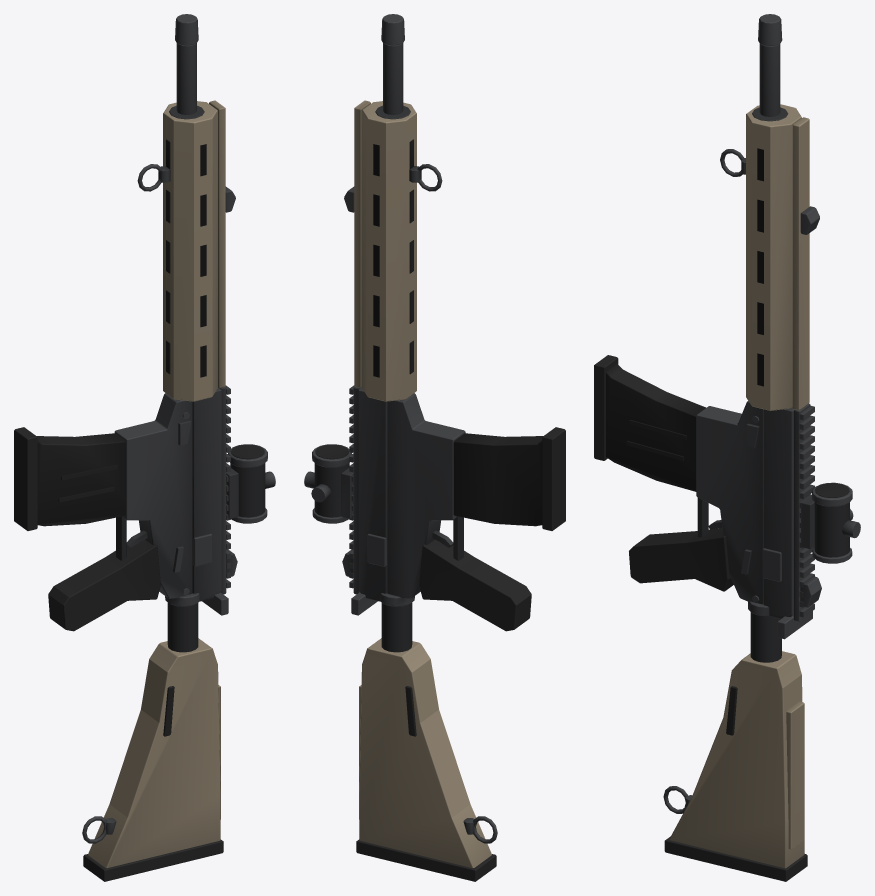
Rendered from armory_rifle_tan.gltf.
3 views of the same model, side by side, from view 1: azimuth 30°, elevation 25°; view 2: azimuth 150°, elevation 25°; view 3: azimuth 330°, elevation 25° (orthographic).
Visible parts, largest first — view 1: ArmoryRifleTan_Furniture, ArmoryRifleTan_Metal, ArmoryRifleTan_Polymer, ArmoryRifleTan_Polymer_Detail, ArmoryRifleTan_Metal_Detail; view 2: ArmoryRifleTan_Furniture, ArmoryRifleTan_Metal, ArmoryRifleTan_Polymer, ArmoryRifleTan_Polymer_Detail, ArmoryRifleTan_Metal_Detail; view 3: ArmoryRifleTan_Furniture, ArmoryRifleTan_Metal, ArmoryRifleTan_Polymer, ArmoryRifleTan_Metal_Detail, ArmoryRifleTan_Polymer_Detail.
Boxes of the visible parts, <box> form: ArmoryRifleTan_Furniture: <box>88,100,225,868</box>; ArmoryRifleTan_Metal: <box>114,14,267,652</box>; ArmoryRifleTan_Polymer: <box>14,427,223,881</box>; ArmoryRifleTan_Polymer_Detail: <box>58,139,264,502</box>; ArmoryRifleTan_Metal_Detail: <box>82,164,275,843</box>; ArmoryRifleTan_Furniture: <box>354,100,491,868</box>; ArmoryRifleTan_Metal: <box>312,14,465,652</box>; ArmoryRifleTan_Polymer: <box>356,427,565,881</box>; ArmoryRifleTan_Polymer_Detail: <box>315,139,413,459</box>; ArmoryRifleTan_Metal_Detail: <box>304,164,497,843</box>; ArmoryRifleTan_Furniture: <box>669,104,809,868</box>; ArmoryRifleTan_Metal: <box>696,14,852,662</box>; ArmoryRifleTan_Polymer: <box>594,355,807,881</box>; ArmoryRifleTan_Metal_Detail: <box>663,149,860,813</box>; ArmoryRifleTan_Polymer_Detail: <box>626,148,849,497</box>.
Bounding box in the file's own units: 0.272 × 0.862 × 0.052.
